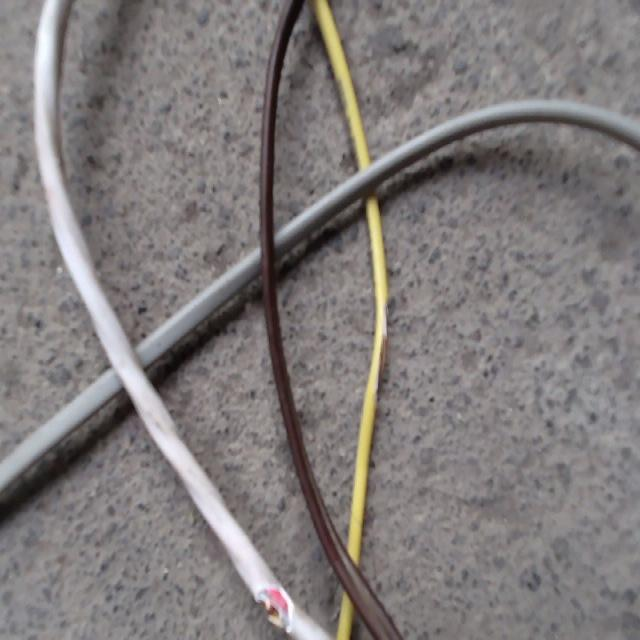-: (254, 581, 296, 631), (373, 293, 387, 395)
